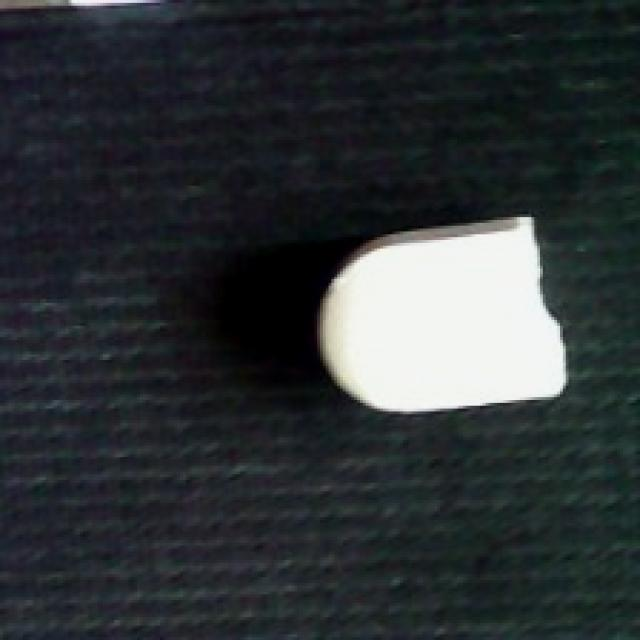defected: (312, 214, 572, 429)
